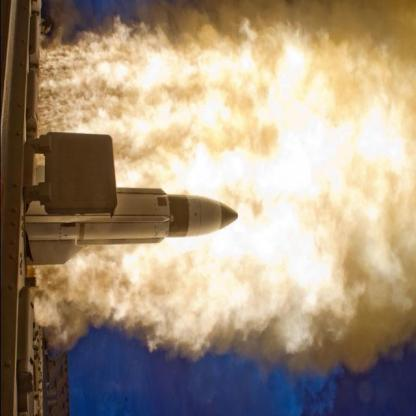MIL_TBM: (27, 186, 252, 246), (72, 214, 172, 225)
